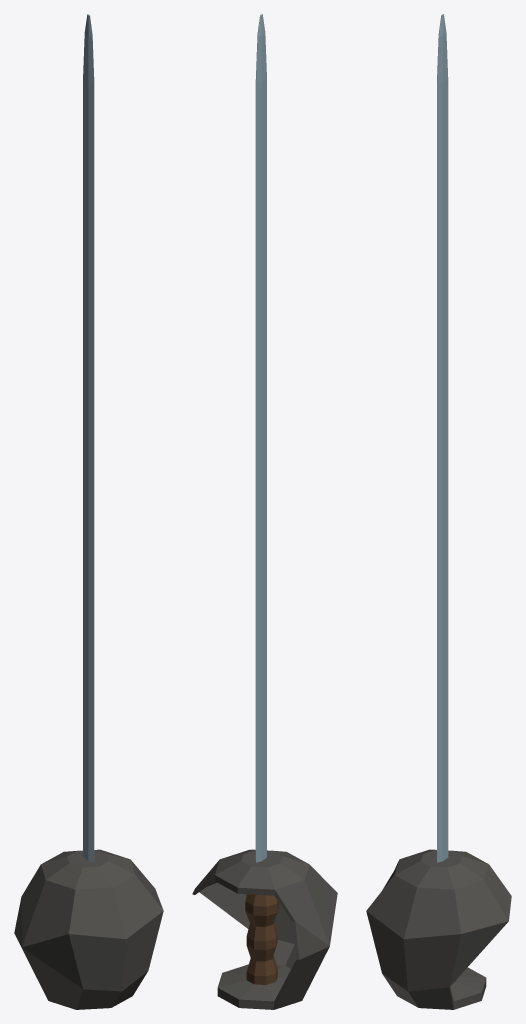
Rendered from sword3.fbx.
The picture shows the model from 3 angles, left to right: view 1: azimuth 30°, elevation 25°; view 2: azimuth 150°, elevation 25°; view 3: azimuth 330°, elevation 25°; orthographic projection.
Visible parts, largest first — view 1: Cylinder; view 2: Cylinder; view 3: Cylinder.
Part boxes in pixels (bbox=[...]): Cylinder: bbox=[14, 14, 163, 1009]; Cylinder: bbox=[192, 14, 337, 1009]; Cylinder: bbox=[366, 14, 511, 1009].
Bounding box in the file's own units: 28.64 × 200 × 23.18.
